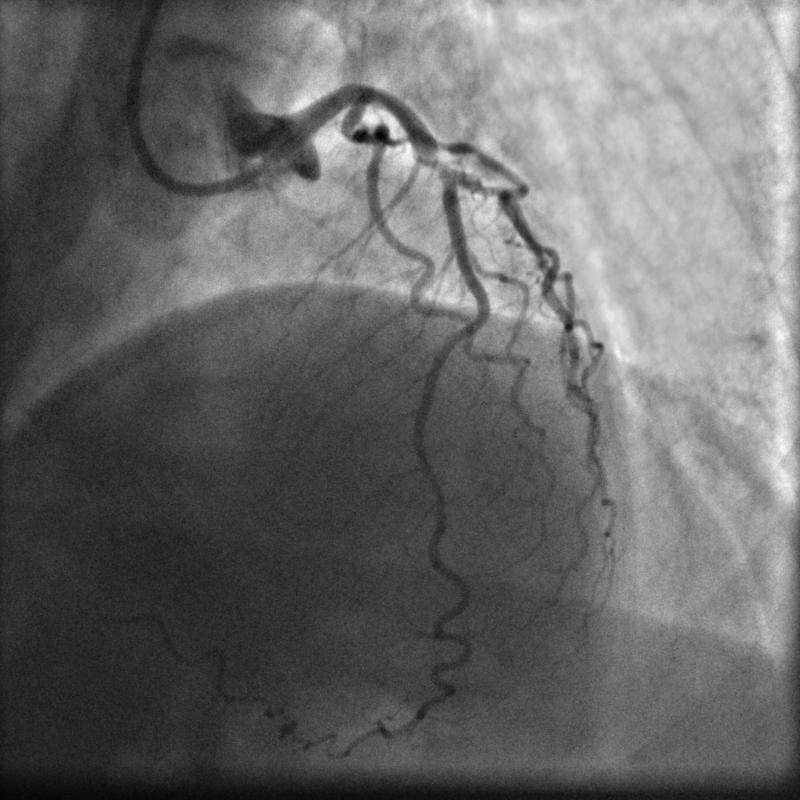Stenosis: (412, 145, 456, 178)
